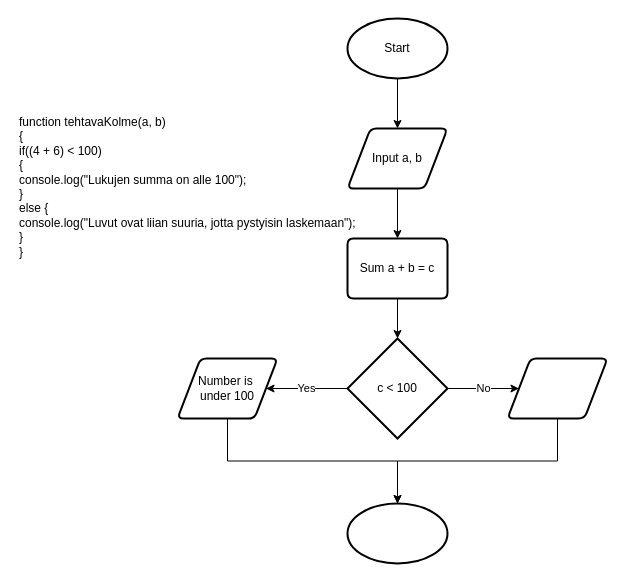
Some shapes in this 625 by 581 pixel diagram are drawn without their labels. Here are the shapes that lost their labels. From the top down, the box of each, then its label:
(506, 357, 608, 419): Number isn't same
(346, 502, 448, 564): End
